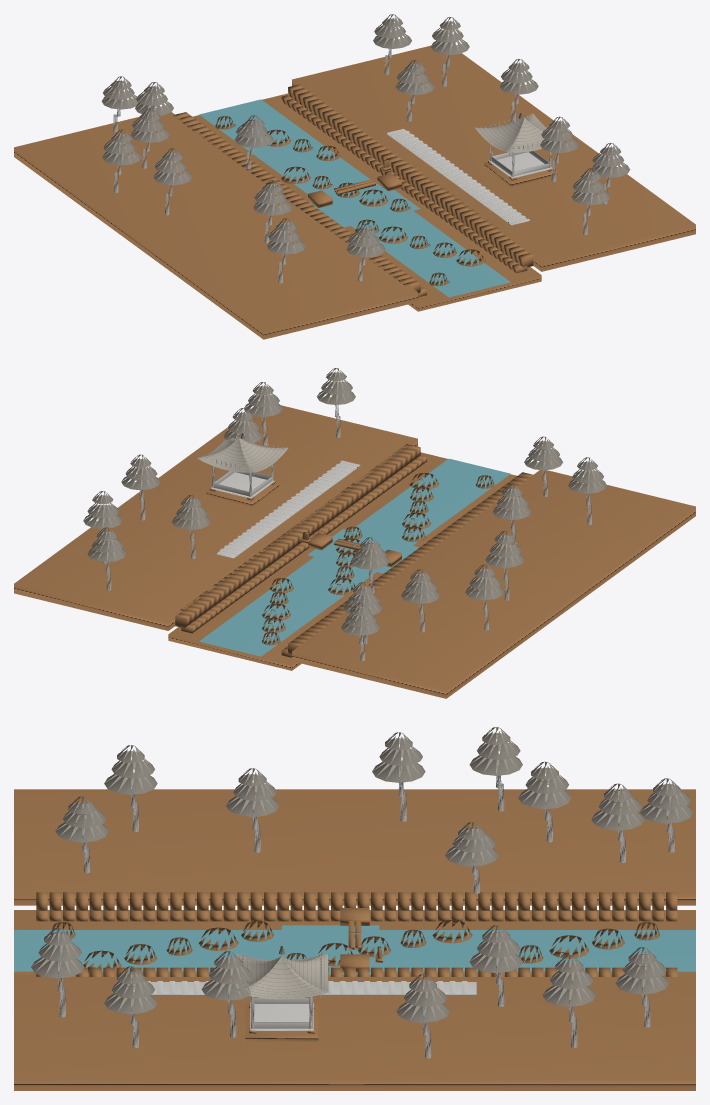
3 renders of one model, top to bottom at view 1: azimuth 30°, elevation 25°; view 2: azimuth 150°, elevation 25°; view 3: azimuth 270°, elevation 25°, orthographic. The views are drawn at different scales.
Parts seen in each view (by area): view 1: suseong_granite_bedrock_ravine, suseong_pine_grove_forest, suseong_mountain_stream_water, suseong_pavilion_and_boardwalk, suseong_pavilion_giwa_roof, giringyo_ancient_stone_bridge; view 2: suseong_granite_bedrock_ravine, suseong_pine_grove_forest, suseong_mountain_stream_water, suseong_pavilion_and_boardwalk, suseong_pavilion_giwa_roof, giringyo_ancient_stone_bridge; view 3: suseong_granite_bedrock_ravine, suseong_pine_grove_forest, suseong_mountain_stream_water, suseong_pavilion_and_boardwalk, suseong_pavilion_giwa_roof, giringyo_ancient_stone_bridge.
Boxes of the visible parts, bbox=[...] form: suseong_granite_bedrock_ravine: bbox=[14, 45, 695, 339]; suseong_pine_grove_forest: bbox=[101, 14, 630, 283]; suseong_mountain_stream_water: bbox=[199, 99, 510, 297]; suseong_pavilion_and_boardwalk: bbox=[387, 128, 557, 225]; suseong_pavilion_giwa_roof: bbox=[475, 112, 556, 154]; giringyo_ancient_stone_bridge: bbox=[308, 159, 401, 207]; suseong_granite_bedrock_ravine: bbox=[14, 405, 695, 698]; suseong_pine_grove_forest: bbox=[83, 368, 606, 660]; suseong_mountain_stream_water: bbox=[199, 458, 510, 656]; suseong_pavilion_and_boardwalk: bbox=[206, 460, 360, 558]; suseong_pavilion_giwa_roof: bbox=[197, 432, 288, 474]; giringyo_ancient_stone_bridge: bbox=[301, 532, 401, 567]; suseong_granite_bedrock_ravine: bbox=[14, 789, 695, 1090]; suseong_pine_grove_forest: bbox=[31, 727, 693, 1058]; suseong_mountain_stream_water: bbox=[14, 925, 695, 974]; suseong_pavilion_and_boardwalk: bbox=[133, 981, 476, 1041]; suseong_pavilion_giwa_roof: bbox=[235, 945, 328, 999]; giringyo_ancient_stone_bridge: bbox=[340, 908, 382, 972].
Bounding box in the file's own units: 56 × 10.78 × 56.
5 materials, 5 textured.
